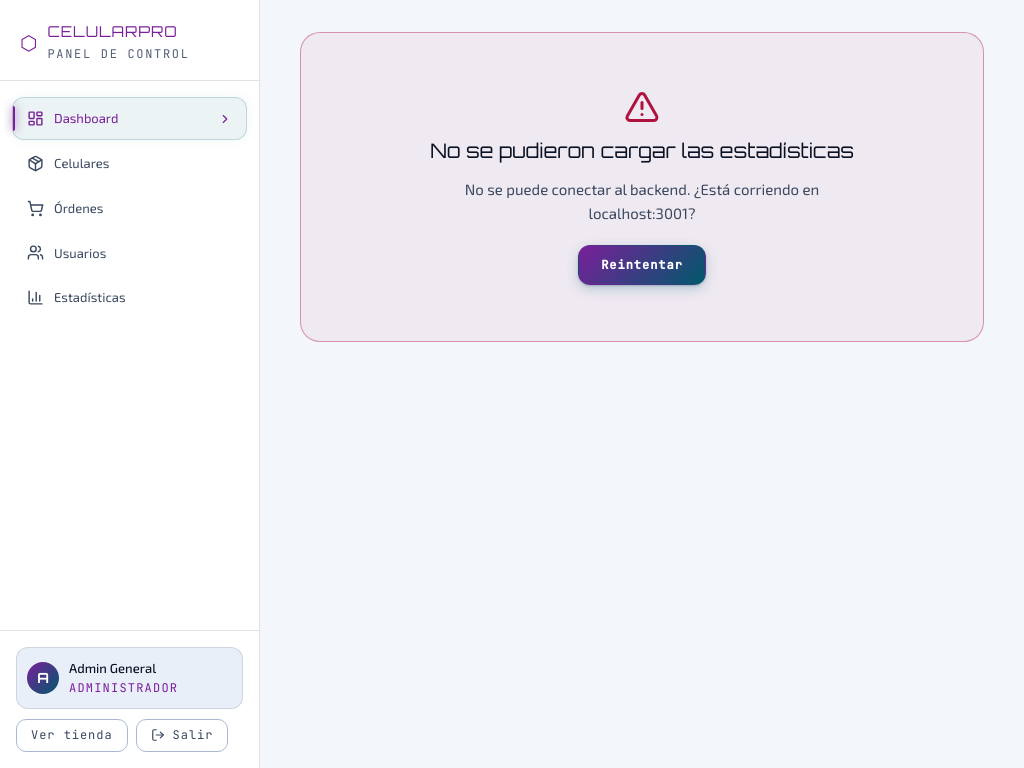
Test case: Panel principal (/admin) — mismo endpoint GET /admin/stats › si el backend no responde, lo explica y "Reintentar" vuelve a pedir los datos
Check: the text "No se puede conectar al backend" is shown, box [465,180,819,222]
Click the button "Reintentar": (642, 265) [578,245,706,285]
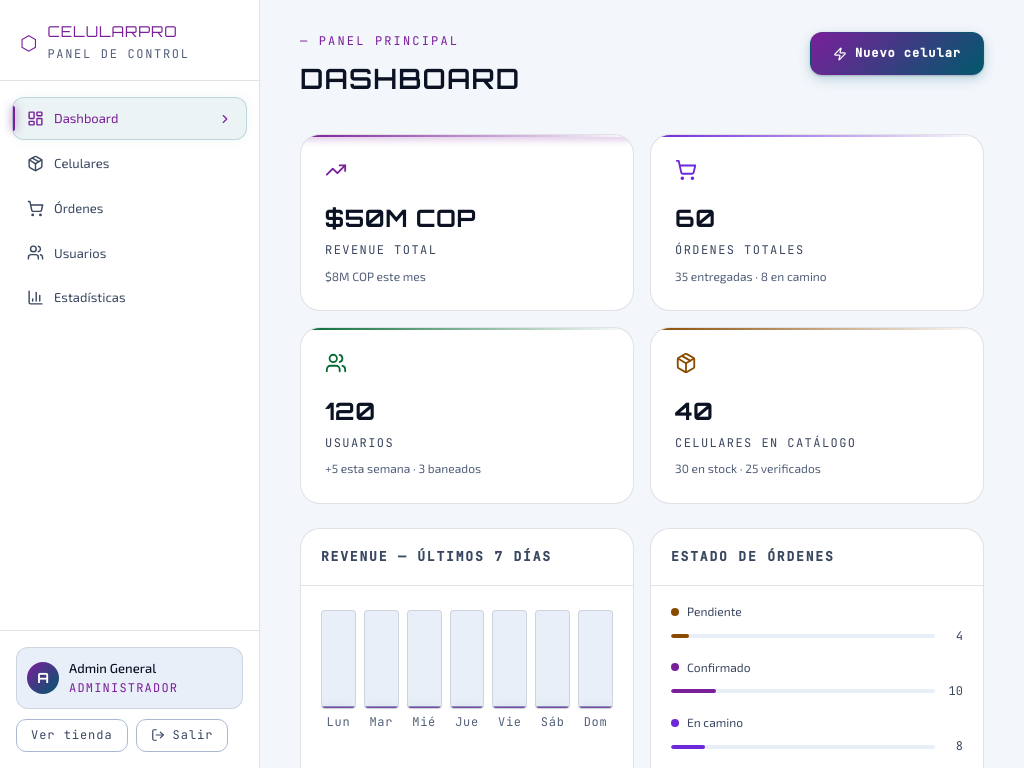
Check: the heading "Dashboard" is shown, box [300,57,520,102]
